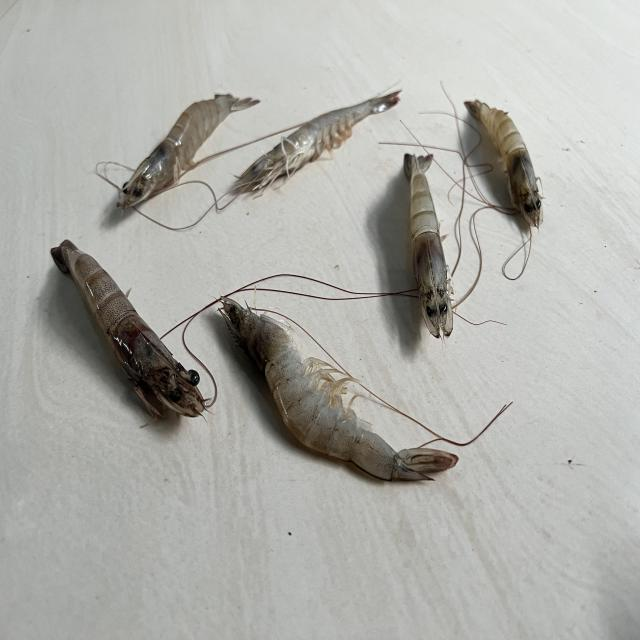shrimp: (220, 298, 459, 481), (50, 240, 205, 417), (235, 89, 401, 190), (116, 93, 259, 210), (465, 99, 544, 227), (404, 153, 453, 338)
